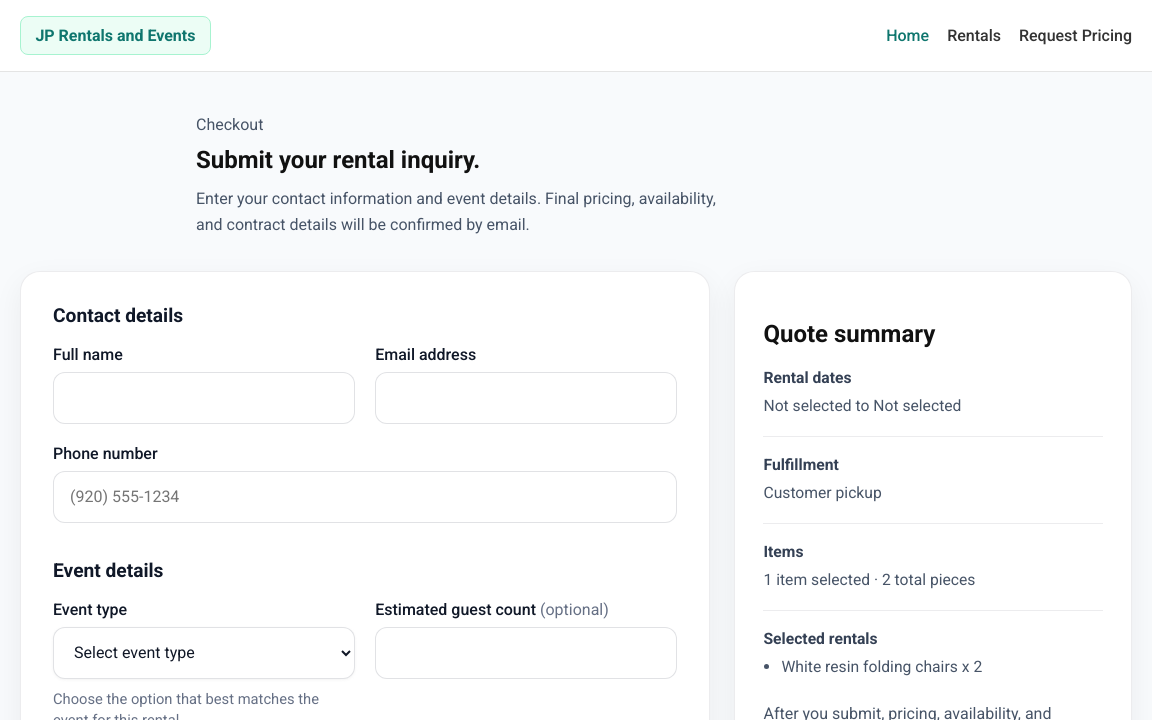
Test: CheckoutPage › shows quote-detail errors when rental dates are missing
Type "Jordan Smith" into the field labelled "Full name" at (204, 398), box x1=53 y1=372 x2=355 y2=424
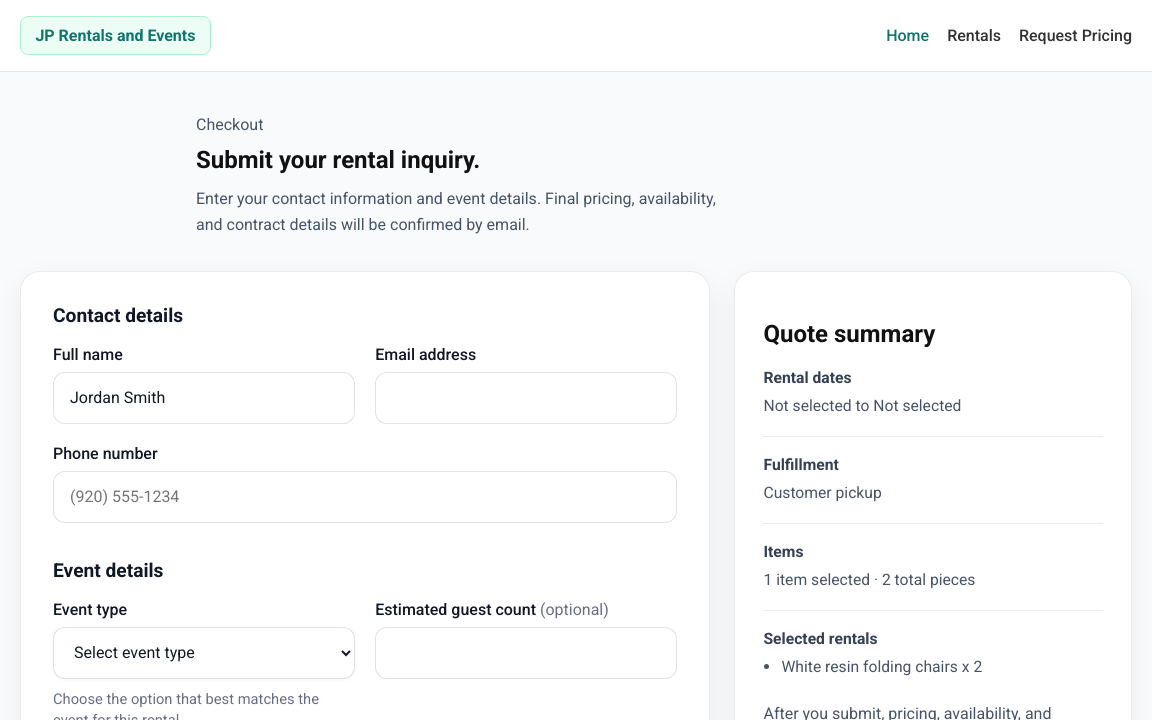
Type "jordan@example.com" into the field labelled "Email address" at (526, 398), box x1=375 y1=372 x2=677 y2=424
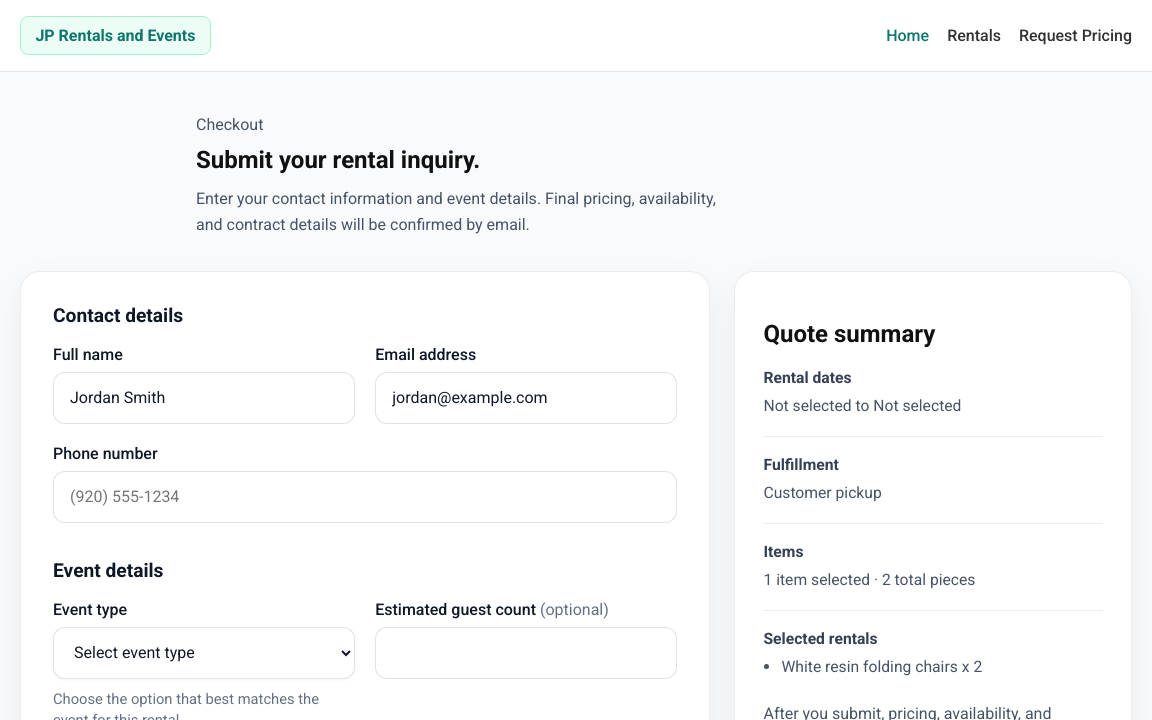
Type "9205551234" into the field labelled "Phone number" at (365, 497), box x1=53 y1=471 x2=678 y2=523
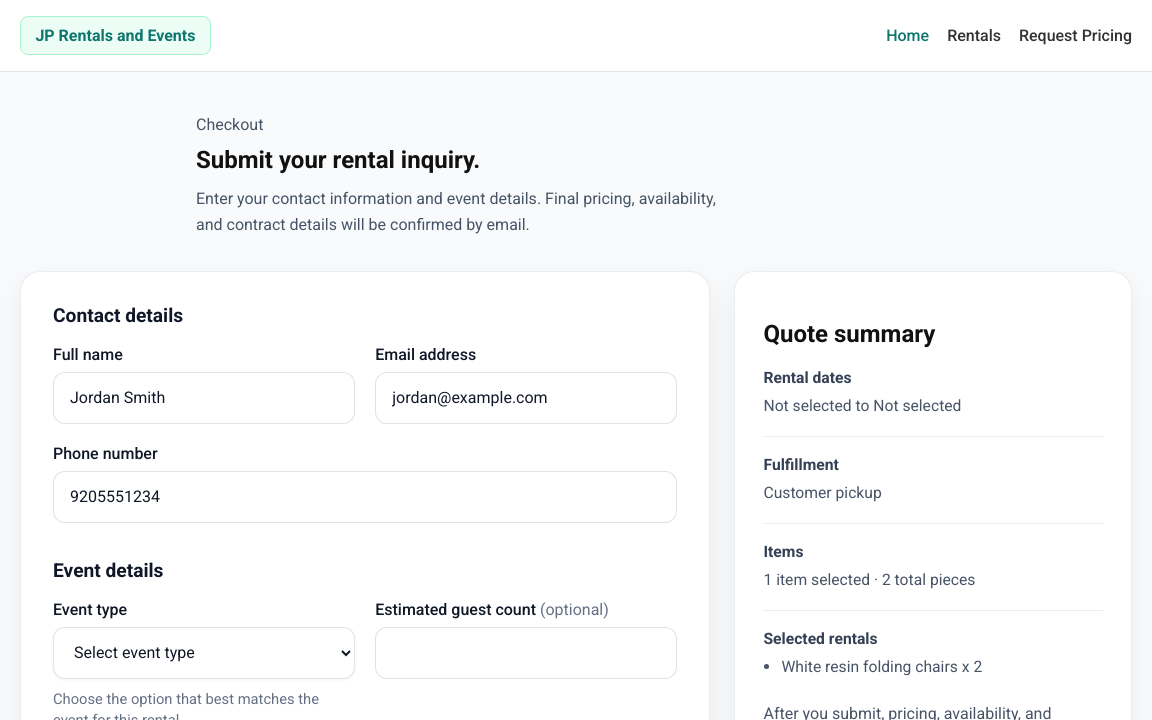
Select "Birthday party" in the dropdown labelled "Event type" at (204, 653), box x1=53 y1=627 x2=355 y2=679
(page scrolled)
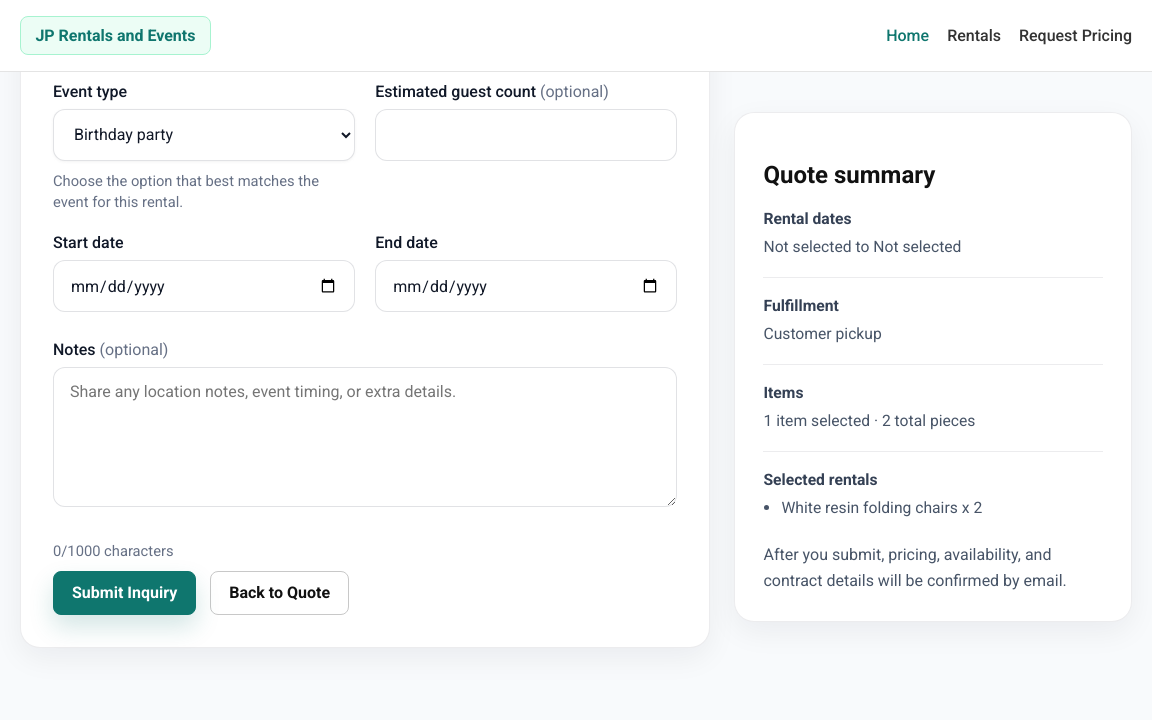
Click the button "Submit Inquiry" at (125, 593), box x1=53 y1=571 x2=196 y2=615
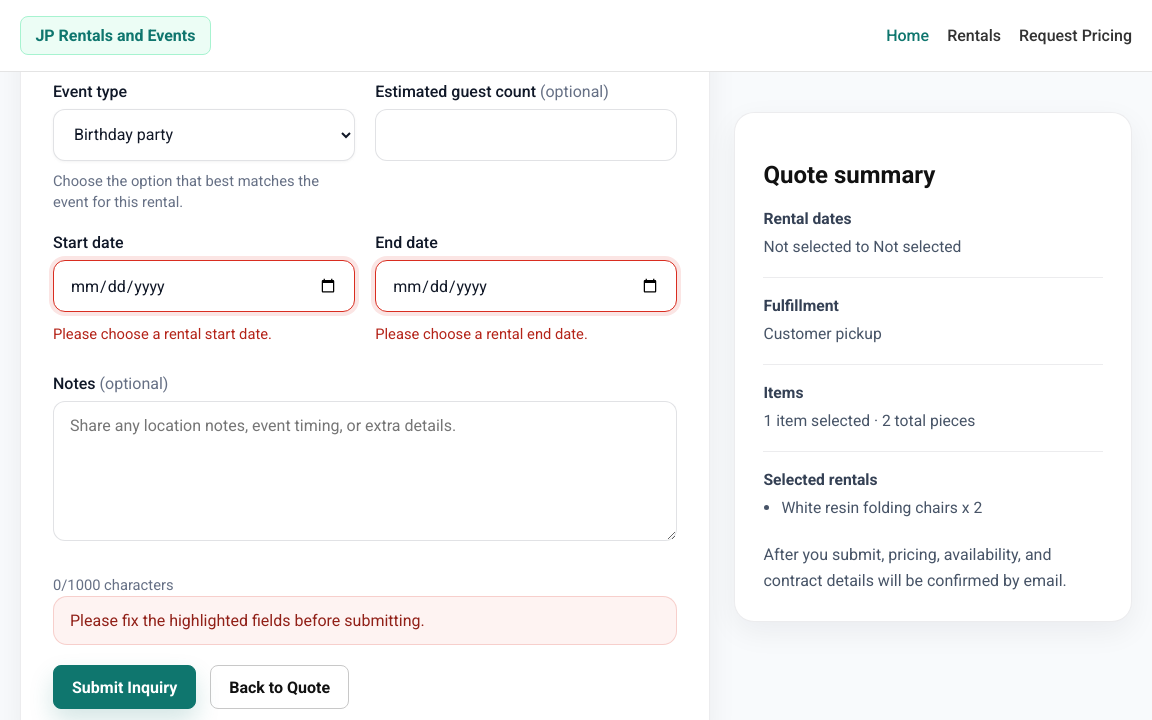
Result: the text "Please choose a rental start date." is shown at x1=53 y1=325 x2=272 y2=343
Result: the text "Please choose a rental end date." is shown at x1=375 y1=325 x2=588 y2=343
